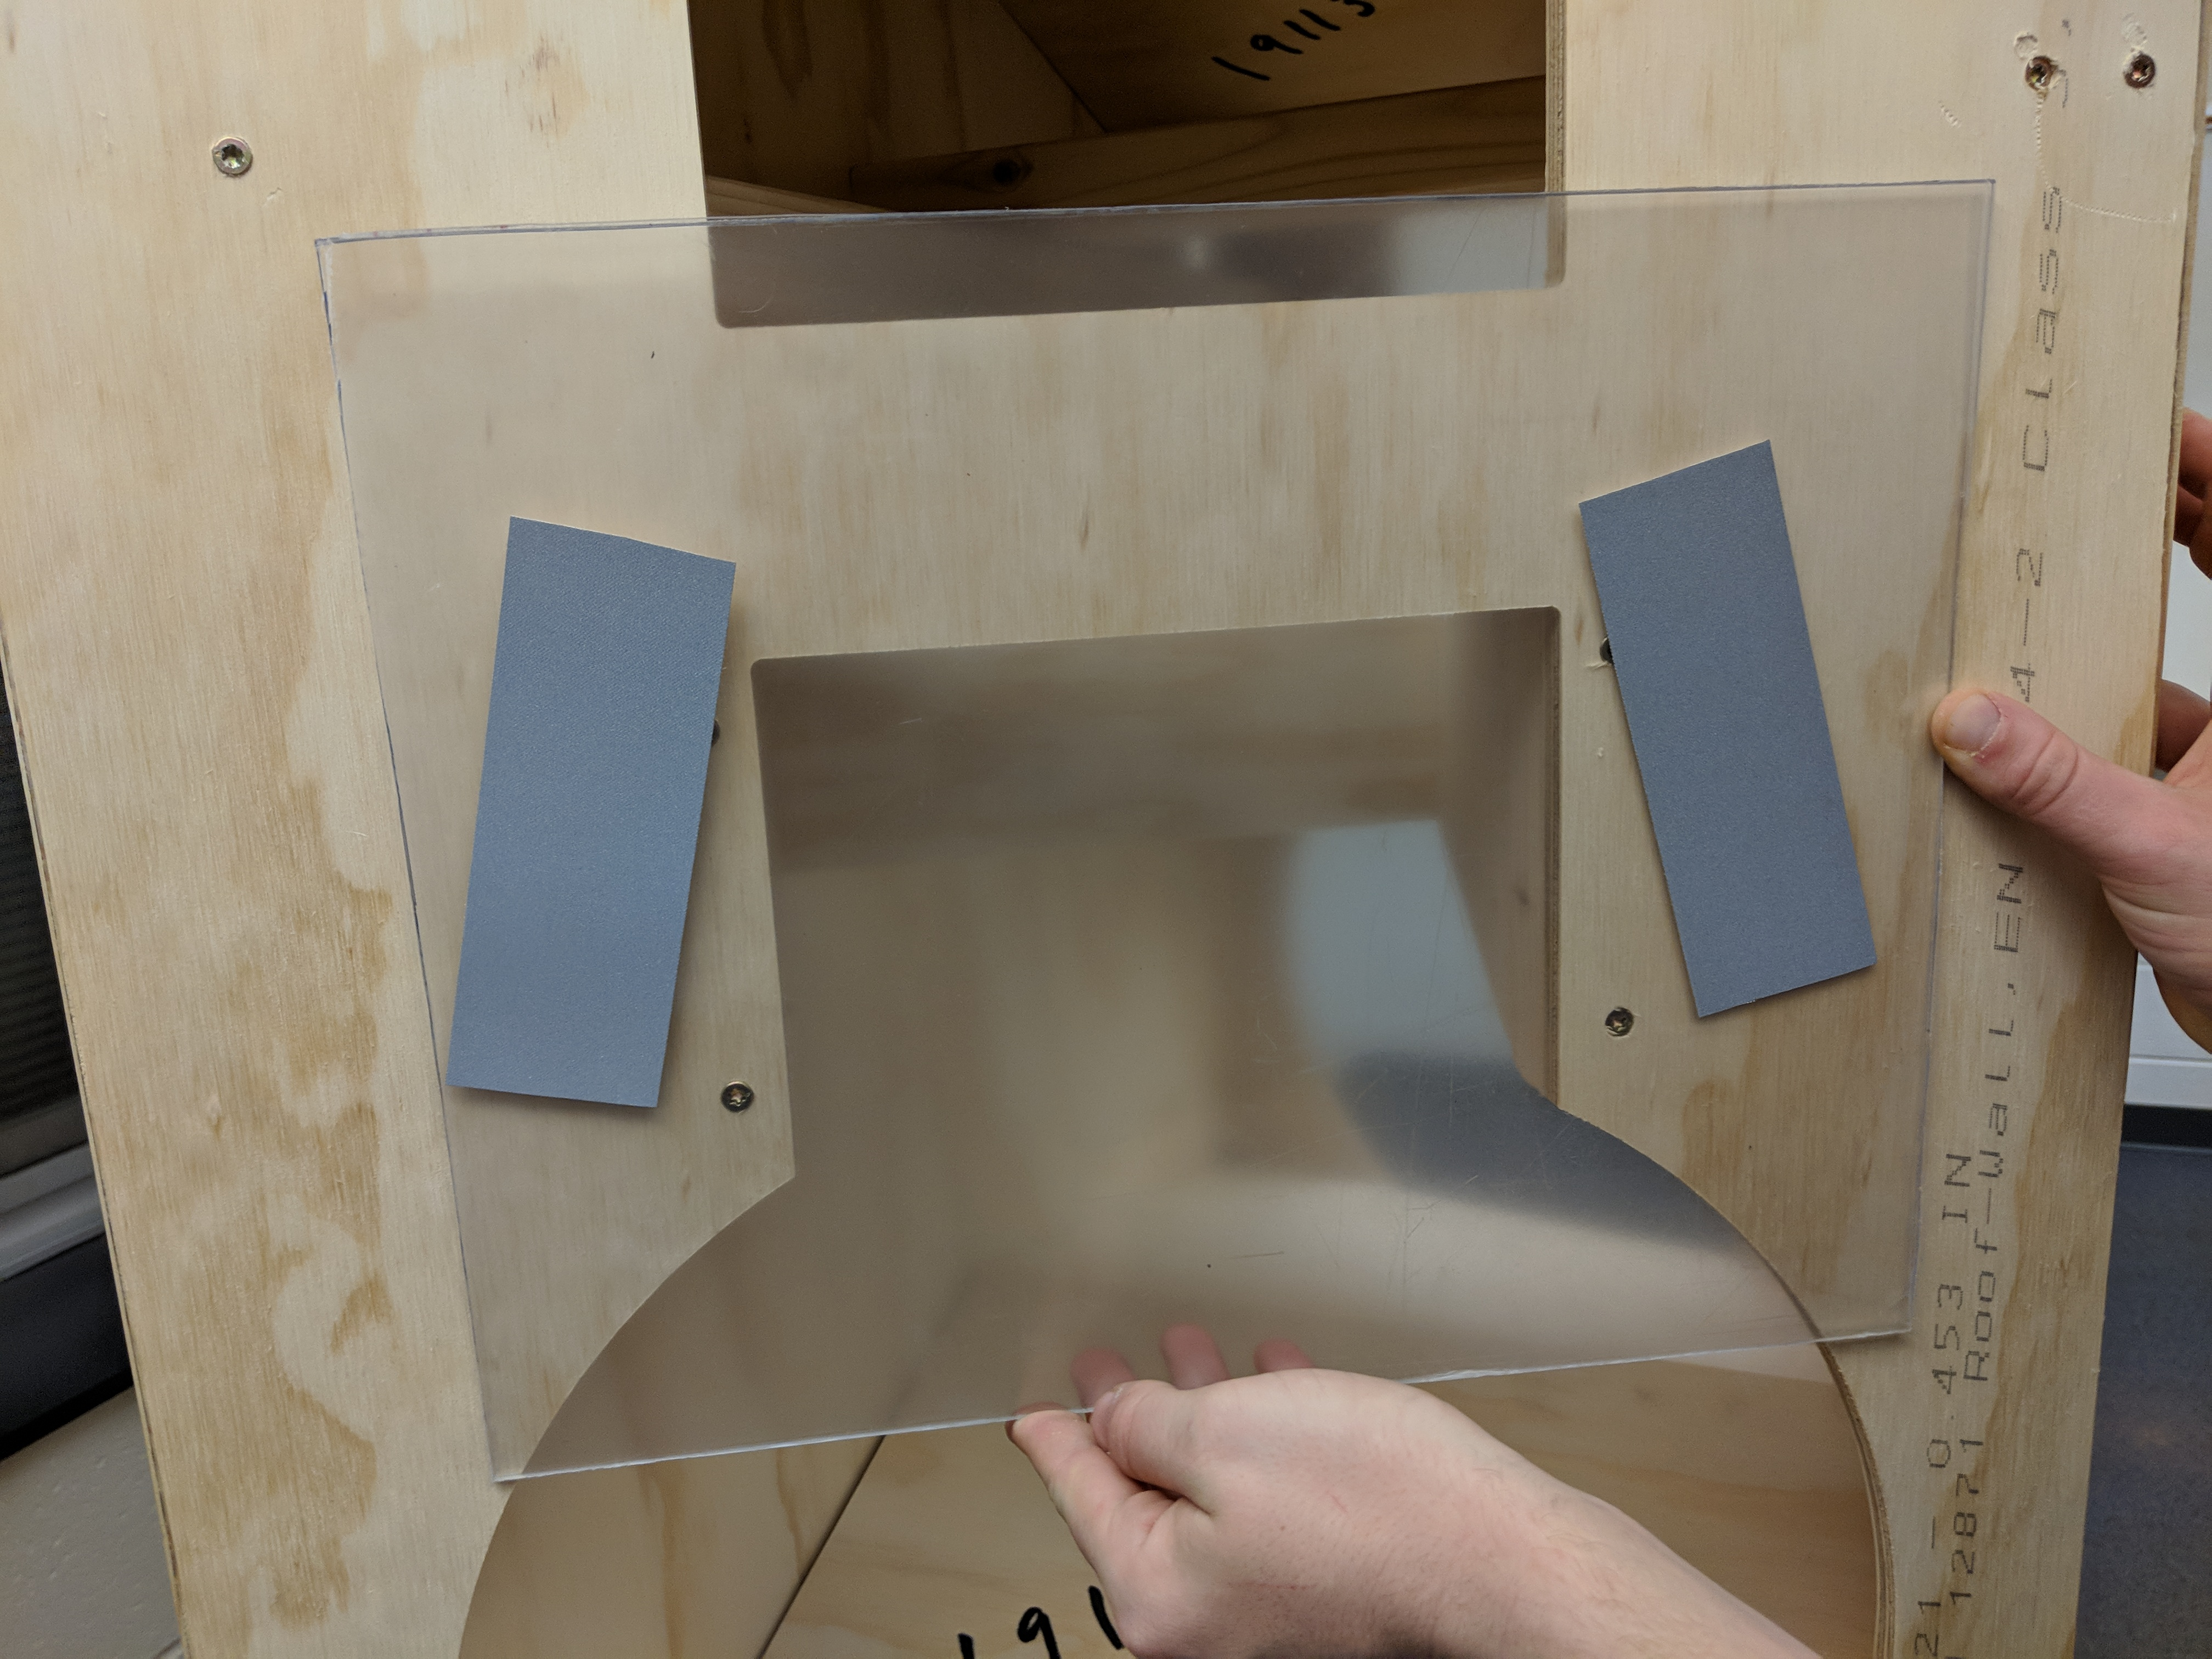vision_target: (439, 430, 1888, 1129)
